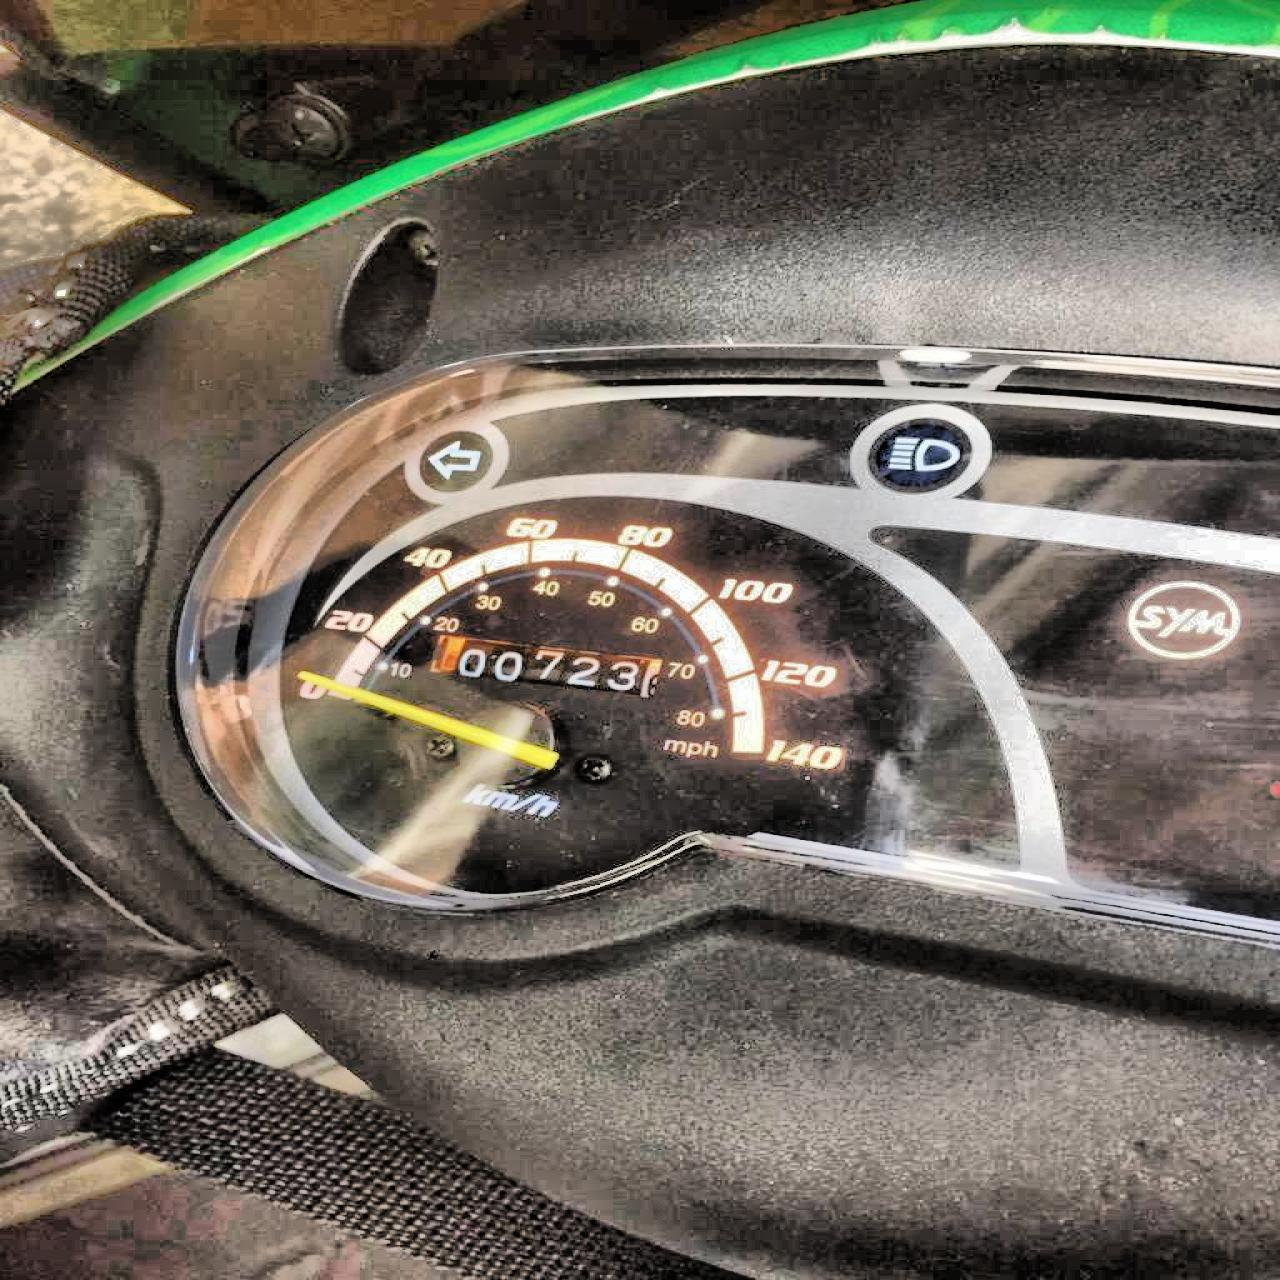0: (454, 646, 486, 676), (491, 649, 522, 680)
2: (567, 655, 600, 686)
3: (604, 659, 639, 690)
6: (644, 672, 659, 696)
7: (530, 646, 564, 679)
odometer: (418, 632, 665, 699)
